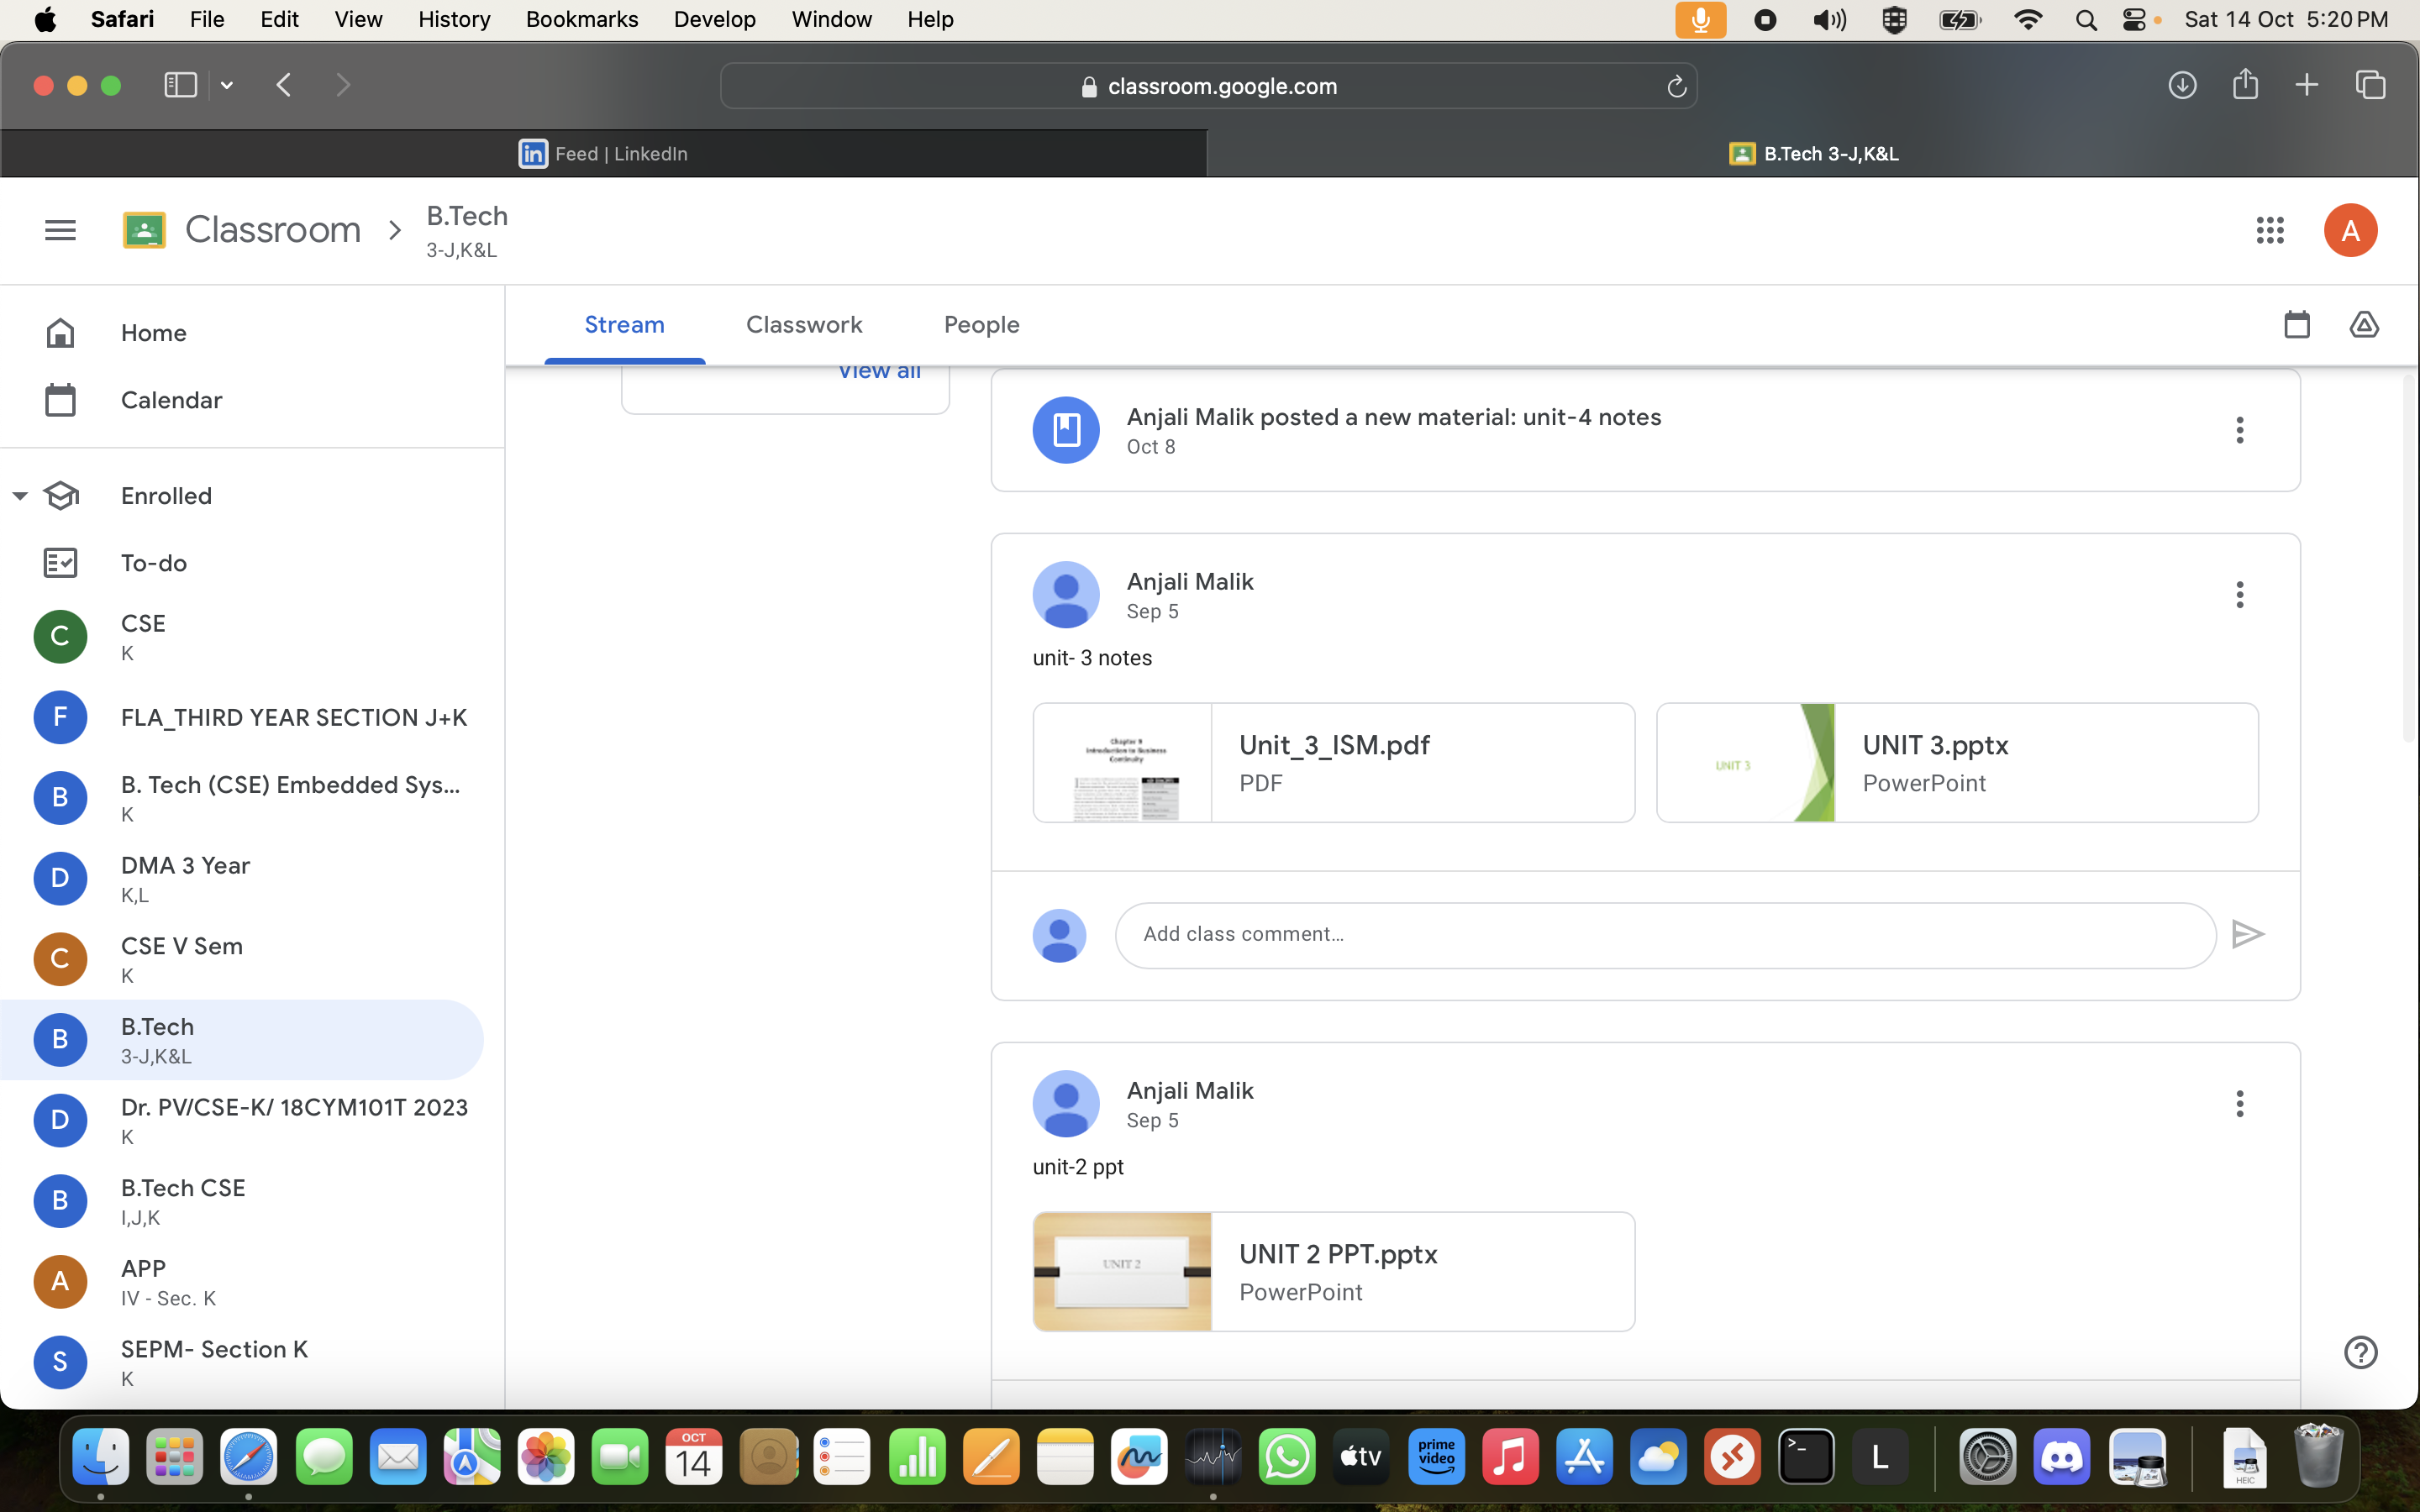Image: (1023, 700, 1221, 826), (1678, 700, 1838, 822), (1033, 1211, 1207, 1317), (1026, 387, 1098, 467), (1038, 1080, 1105, 1144), (1019, 906, 1098, 960), (1038, 559, 1098, 631)
Paragraph: (1119, 387, 1678, 470), (99, 765, 491, 836), (117, 1087, 477, 1162), (117, 686, 491, 751), (1232, 723, 1458, 803), (1246, 1235, 1462, 1313), (103, 1324, 347, 1392), (1119, 1049, 1286, 1144), (1859, 719, 2040, 807), (167, 206, 394, 265), (103, 1165, 272, 1242), (1126, 913, 1359, 963), (106, 840, 274, 909), (99, 1247, 254, 1320), (1122, 556, 1268, 627), (117, 925, 251, 995), (425, 199, 535, 268), (106, 1009, 213, 1070), (1023, 638, 1186, 676), (99, 312, 206, 361), (110, 535, 206, 587), (96, 387, 237, 418), (106, 603, 178, 662), (110, 484, 237, 517), (1023, 1155, 1145, 1186)
